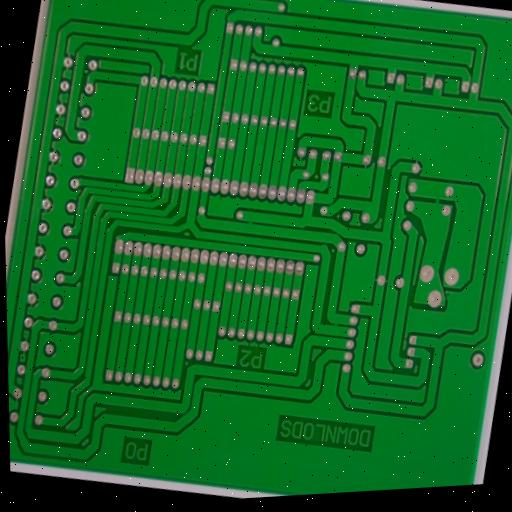short_circuit: (427, 186, 449, 214), (239, 207, 260, 234), (328, 312, 345, 336)
